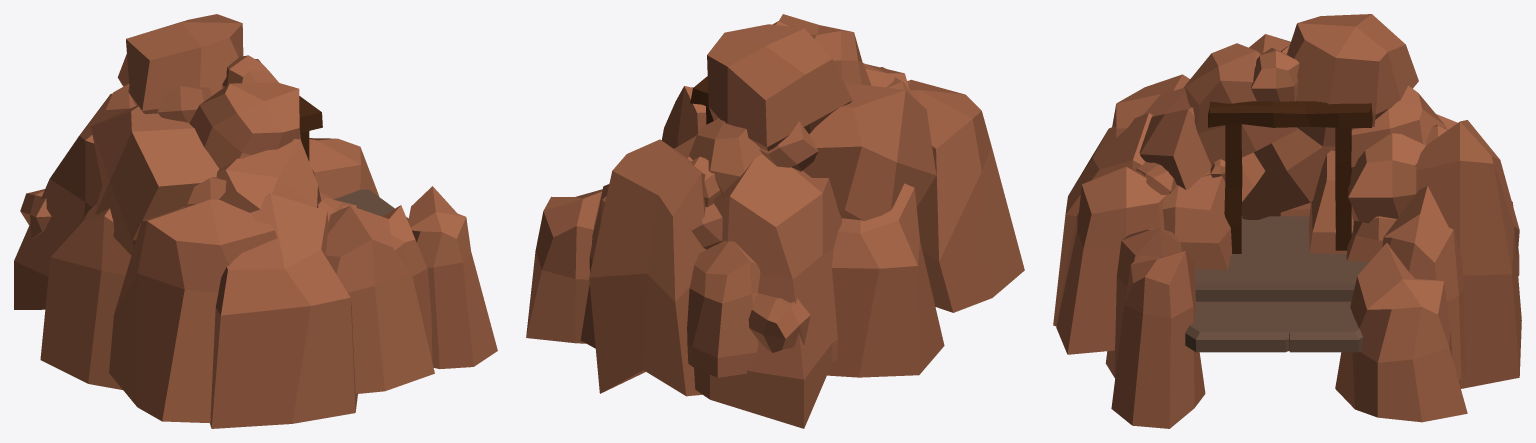
File: Entrada-caverna.fbx
3 views of the same model, side by side, from view 1: azimuth 30°, elevation 25°; view 2: azimuth 150°, elevation 25°; view 3: azimuth 270°, elevation 25° (orthographic).
Parts seen in each view (by area): view 1: Cube.097; view 2: Cube.097; view 3: Cube.097.
Part boxes in pixels (<box>): Cube.097: <box>14,14,497,428</box>; Cube.097: <box>526,14,1024,428</box>; Cube.097: <box>1053,14,1521,428</box>.
Size of the model in its own units: 1350 by 1114 by 1519.
Materials: 1 (1 with a texture image).
